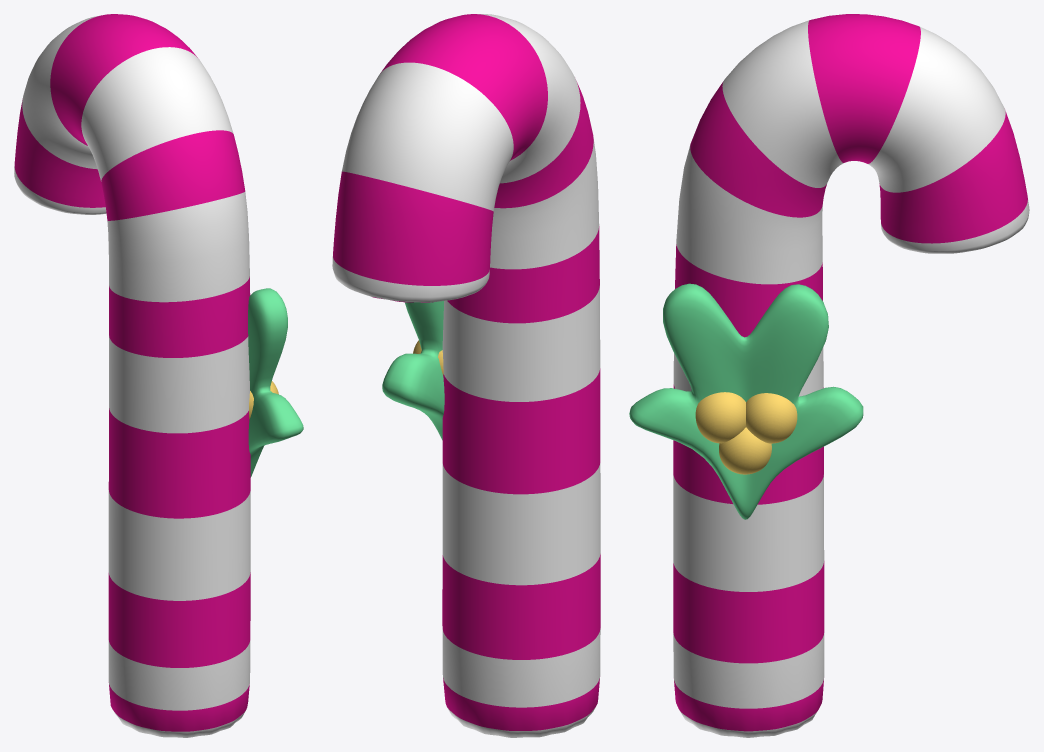
Rendered from Piggy-Bank-Candy.fbx.
The picture shows the model from 3 angles, left to right: view 1: azimuth 30°, elevation 25°; view 2: azimuth 150°, elevation 25°; view 3: azimuth 270°, elevation 25°; orthographic projection. The views are drawn at different scales.
Visible parts, largest first — view 1: Piggy Bank-Candy; view 2: Piggy Bank-Candy; view 3: Piggy Bank-Candy.
Boxes of the visible parts, left/top/right/bottom form: Piggy Bank-Candy: left=14, top=14, right=303, bottom=737; Piggy Bank-Candy: left=332, top=14, right=600, bottom=737; Piggy Bank-Candy: left=629, top=14, right=1029, bottom=737.
Bounding box in the file's own units: 9.21 × 39.28 × 20.66.
